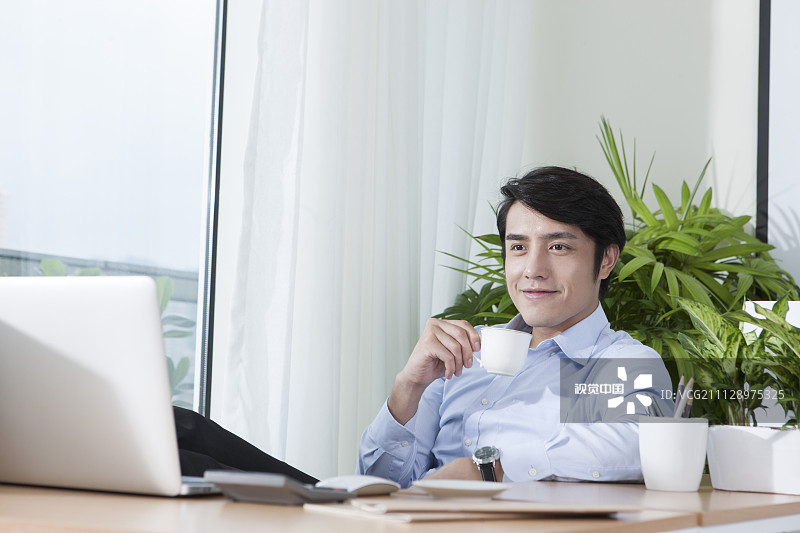no-phone: (395, 308, 529, 401)
